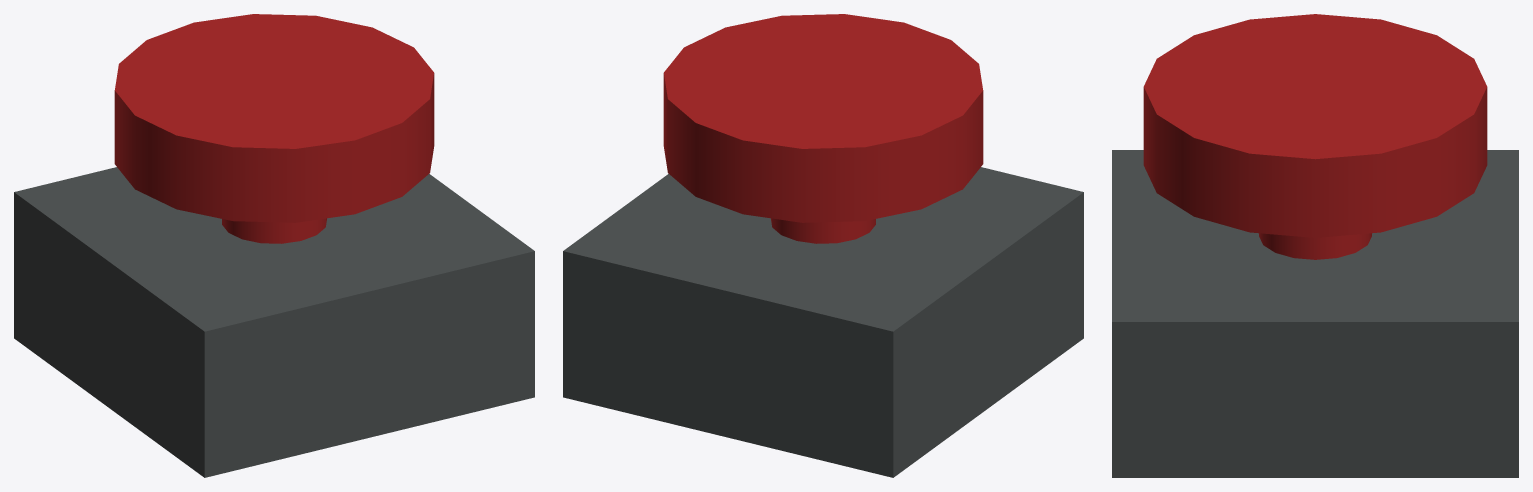
File: EmergencyButton.fbx
3 renders of one model, left to right at view 1: azimuth 30°, elevation 25°; view 2: azimuth 150°, elevation 25°; view 3: azimuth 270°, elevation 25°, orthographic. The views are drawn at different scales.
Visible parts, largest first — view 1: EmergencyButton; view 2: EmergencyButton; view 3: EmergencyButton.
Boxes of the visible parts, x1,y1,x2,y2 form: EmergencyButton: (14,14,534,477); EmergencyButton: (563,14,1083,477); EmergencyButton: (1112,14,1518,477).
Bounding box in the file's own units: 114 × 94.47 × 114.
